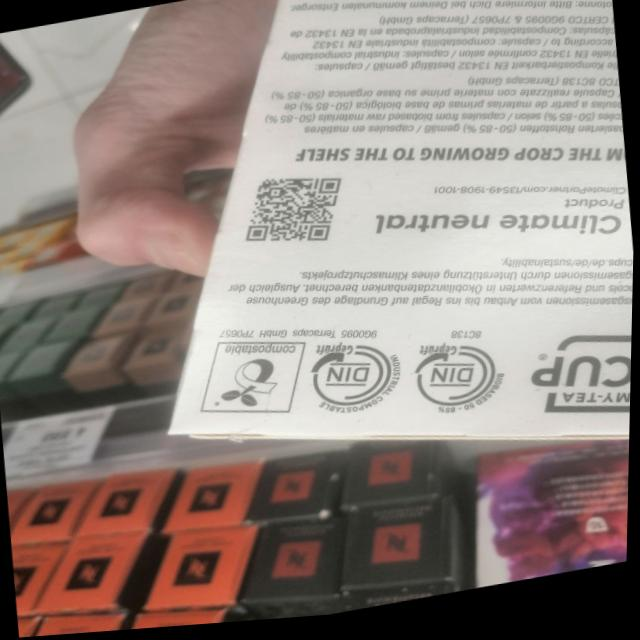qrcode: (236, 167, 352, 265)
